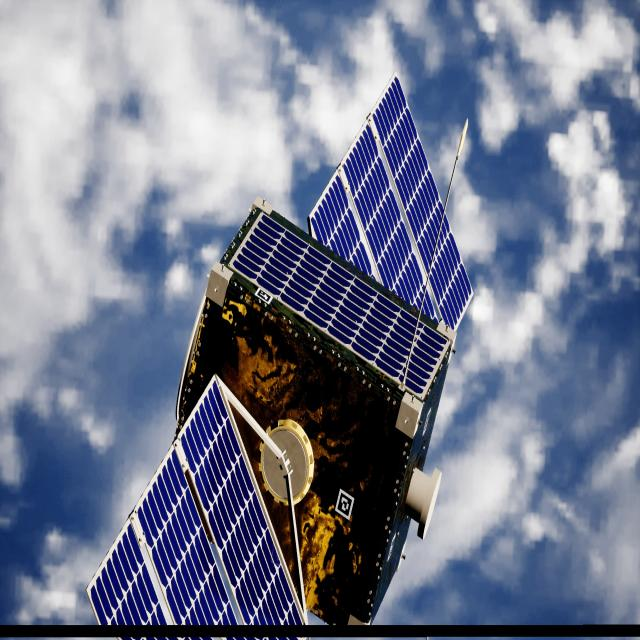satellite: (91, 79, 474, 629)
